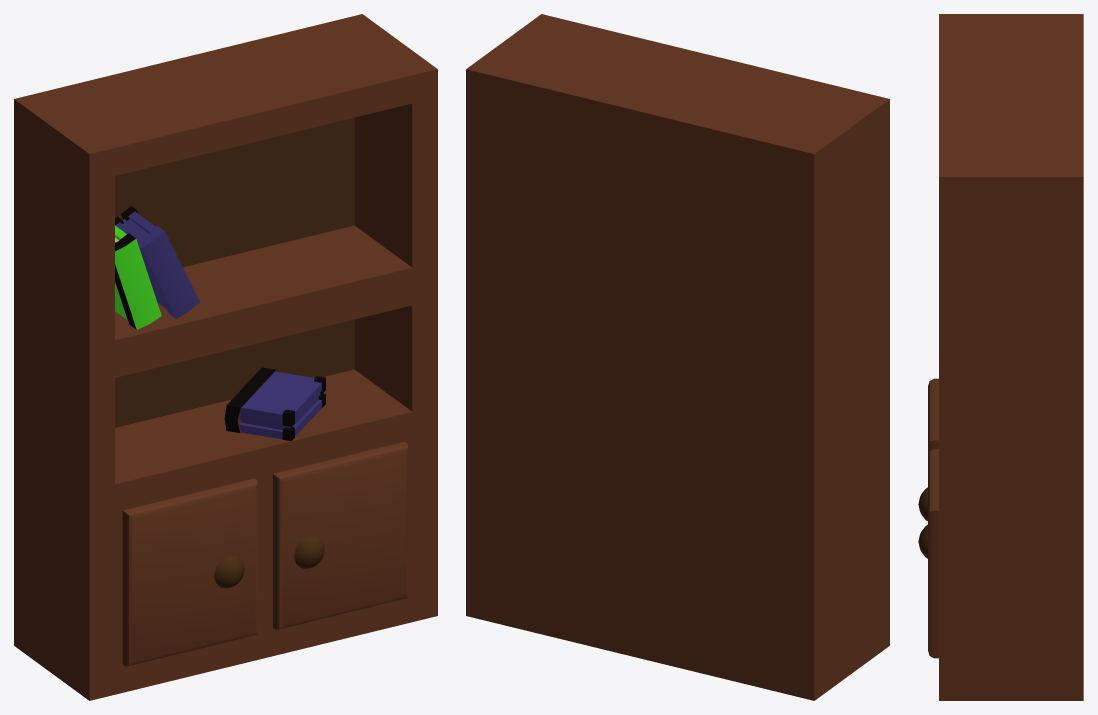
The model's file is wardrobe.fbx.
The picture shows the model from 3 angles, left to right: view 1: azimuth 30°, elevation 25°; view 2: azimuth 150°, elevation 25°; view 3: azimuth 270°, elevation 25°; orthographic projection. The views are drawn at different scales.
Parts seen in each view (by area): view 1: Plane; view 2: Plane; view 3: Plane.
Part boxes in pixels (x1=…): Plane: x1=14, y1=14, x2=437, y2=700; Plane: x1=466, y1=14, x2=889, y2=700; Plane: x1=918, y1=14, x2=1083, y2=700.
Bounding box in the file's own units: 400 × 600 × 171.
